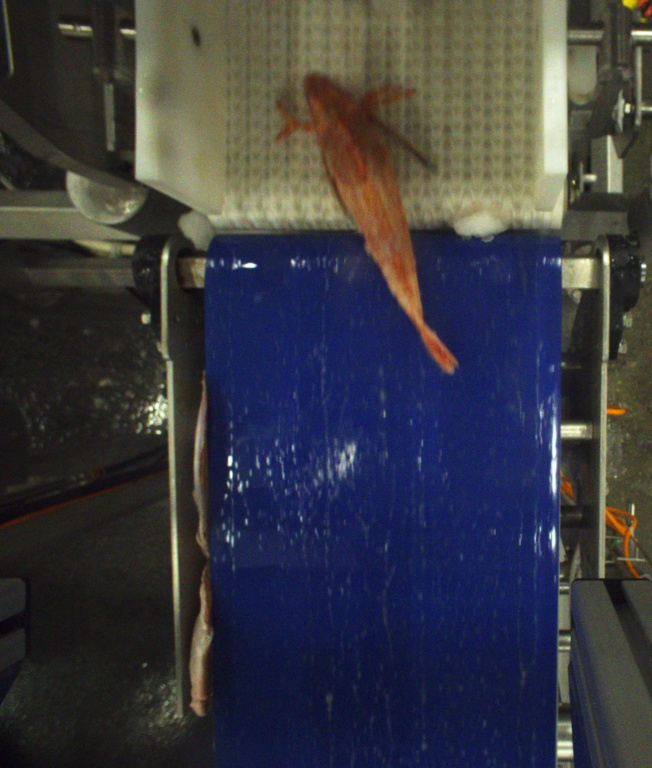GUU: (270, 70, 459, 373)
